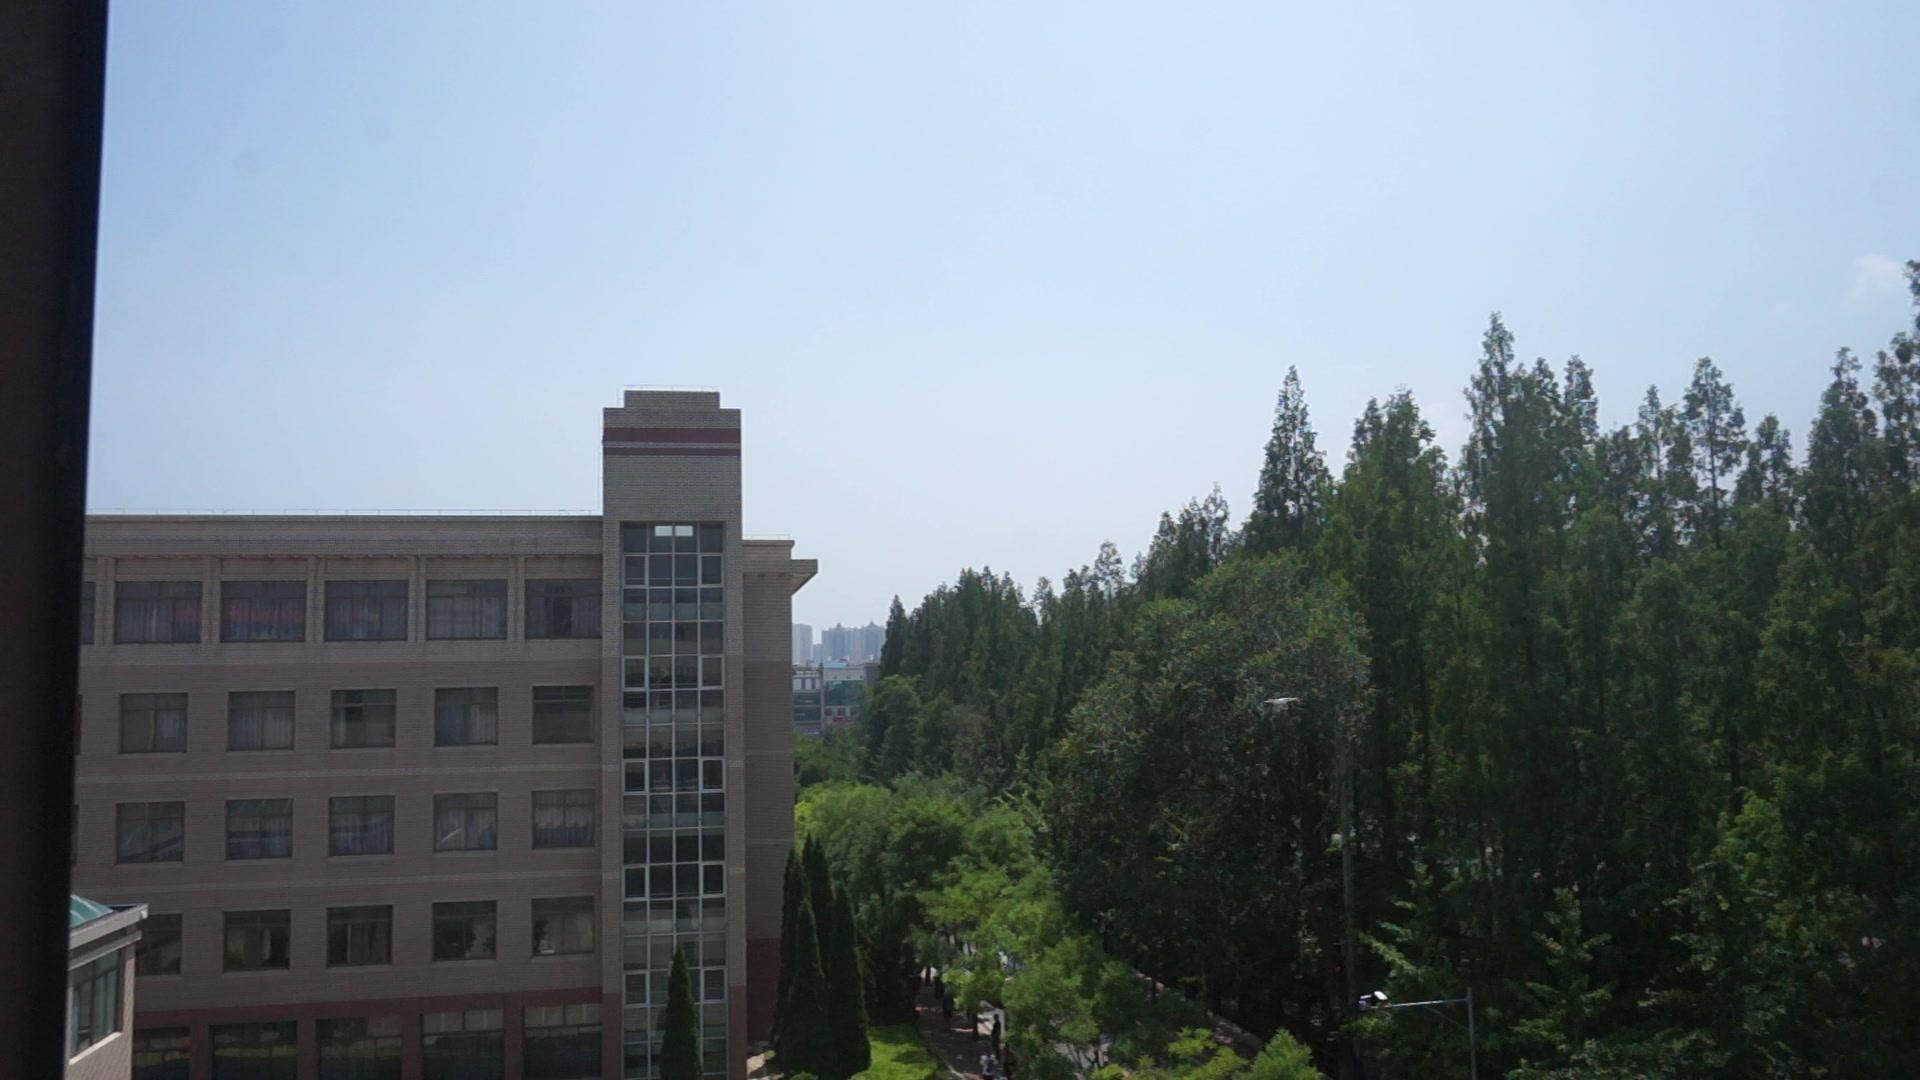UAV: (1265, 699, 1300, 711)
